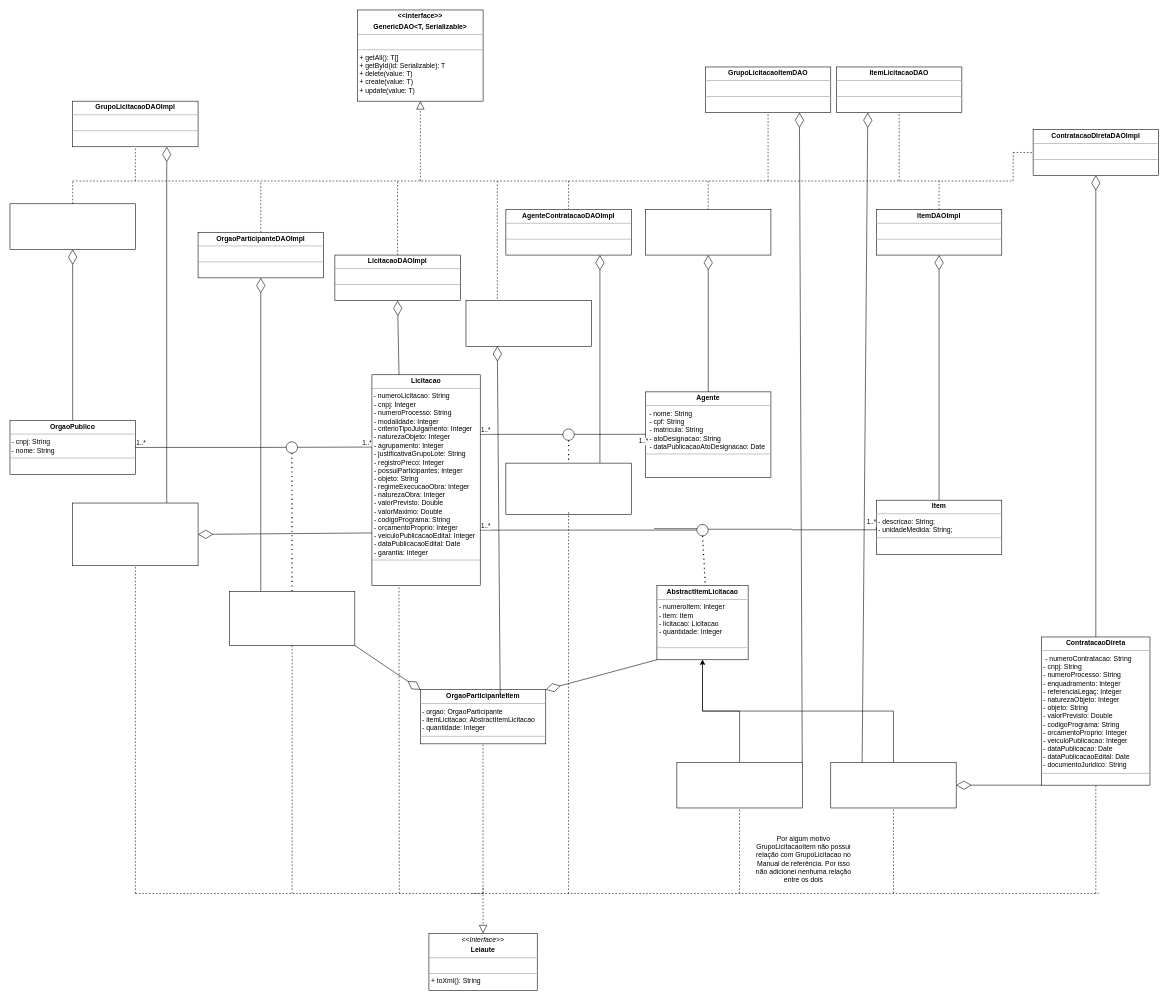
Image size: 1169x1000. Some labels were removed from this diagram. The shapes that lost their labels are listed below. From the top down, each one's box as (x1, y1, x2, y2) in pixels, then its label:
(9, 203, 135, 249): OrgaoPublidoDAOImpl
(645, 209, 771, 255): AgenteDAOImpl
(465, 300, 591, 346): OrgaoParticipanteItemDAOImpl
(505, 463, 631, 514): AgenteContratacao - licitacao: Licitacao - agente: Agente
(72, 502, 198, 566): GrupoLicitacao - licitacao: Licitacao - numeroLote: Integer - descricao: String
(229, 591, 355, 646): OrgaoParticipante - orgao: OrgaoPublico - licitacao: Licitacao
(676, 762, 802, 808): GrupoLicitacaoItem
(830, 762, 956, 808): ItemLicitacao - contratacaoDireta: ContratacaoDireta;
